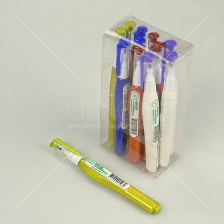correction_fluid: (45, 136, 162, 217), (137, 51, 161, 175), (106, 26, 129, 147), (157, 56, 179, 169), (126, 42, 146, 166), (112, 35, 130, 158)
plastic_box: (97, 12, 197, 182)
